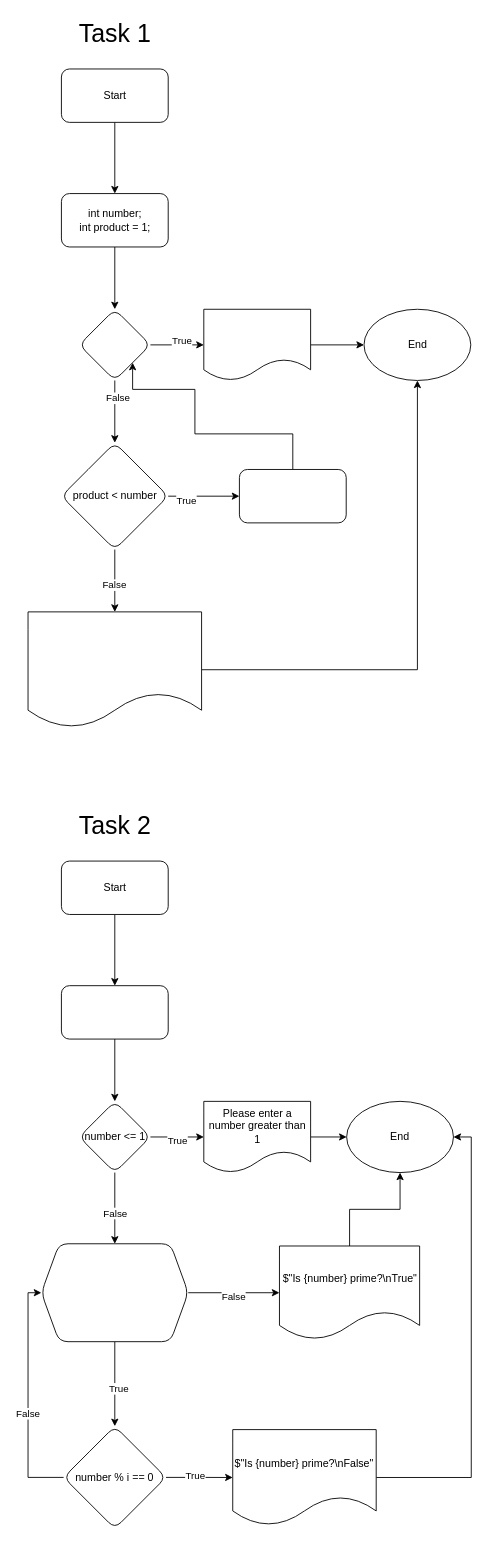
The diagram is 494 pixels wide and 1544 high, and some of its shapes have lost their labels. The centre of each missing label's shape, as x and y in pixels:
$"Is {number} power of 2?" + (number == product): point (114, 669)
int i = 2; i * i <= number; i++: point (114, 1292)
int number;: point (114, 1012)
number <= 0: point (114, 344)
Please enter a positive number: point (257, 344)
product *= 2: point (292, 496)
